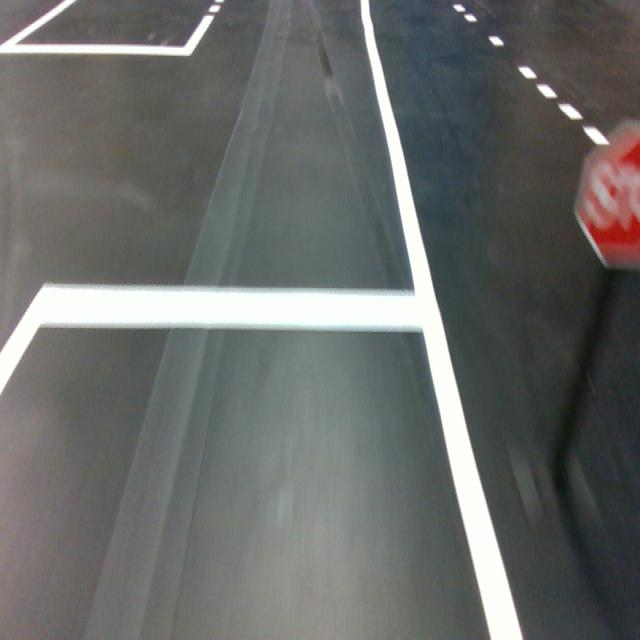stop-sign: (561, 116, 640, 217)
